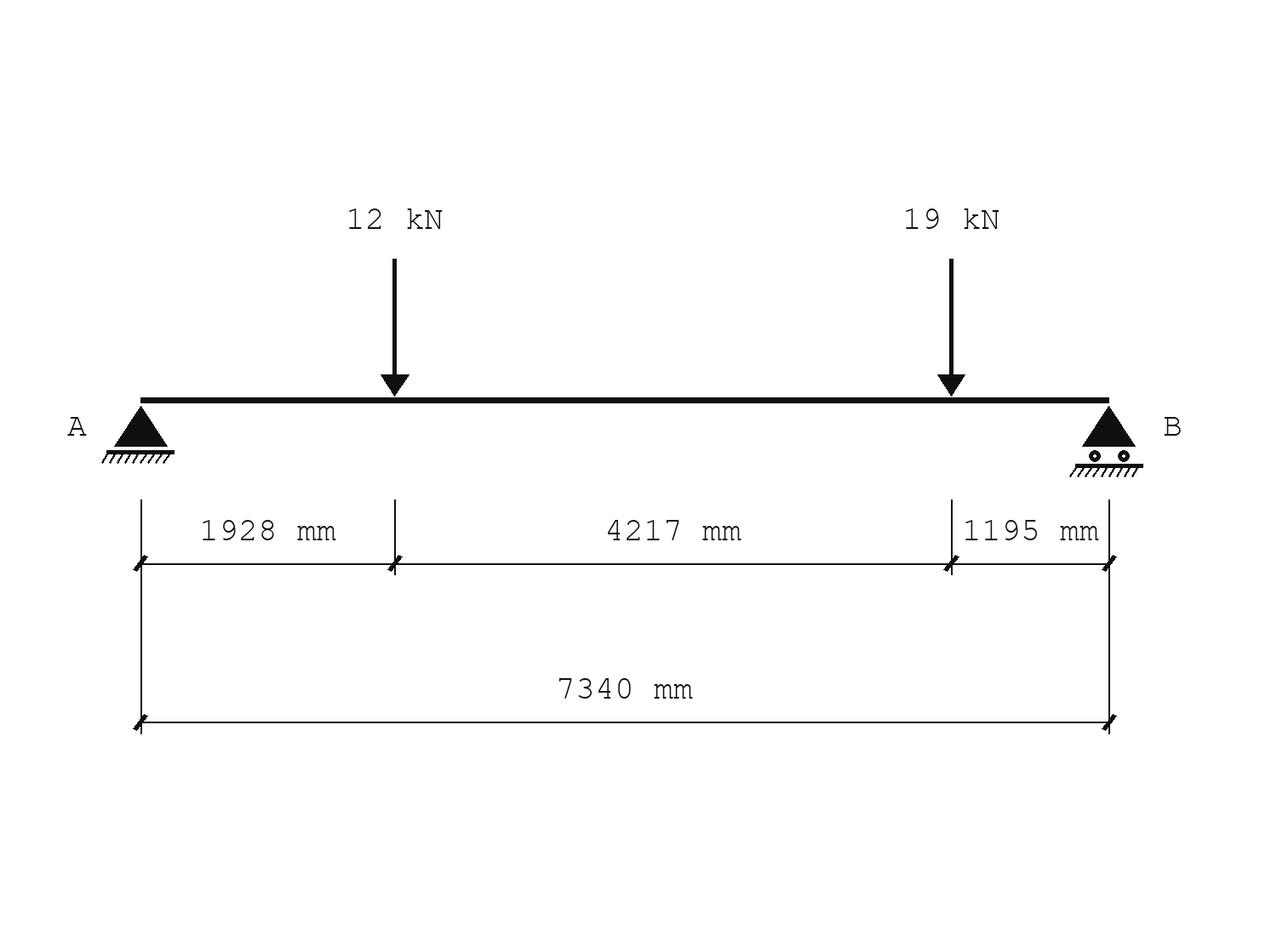pin_support: (101, 406, 175, 464)
point_load: (381, 259, 409, 397), (937, 259, 965, 397)
roller_support: (1069, 406, 1143, 477)
